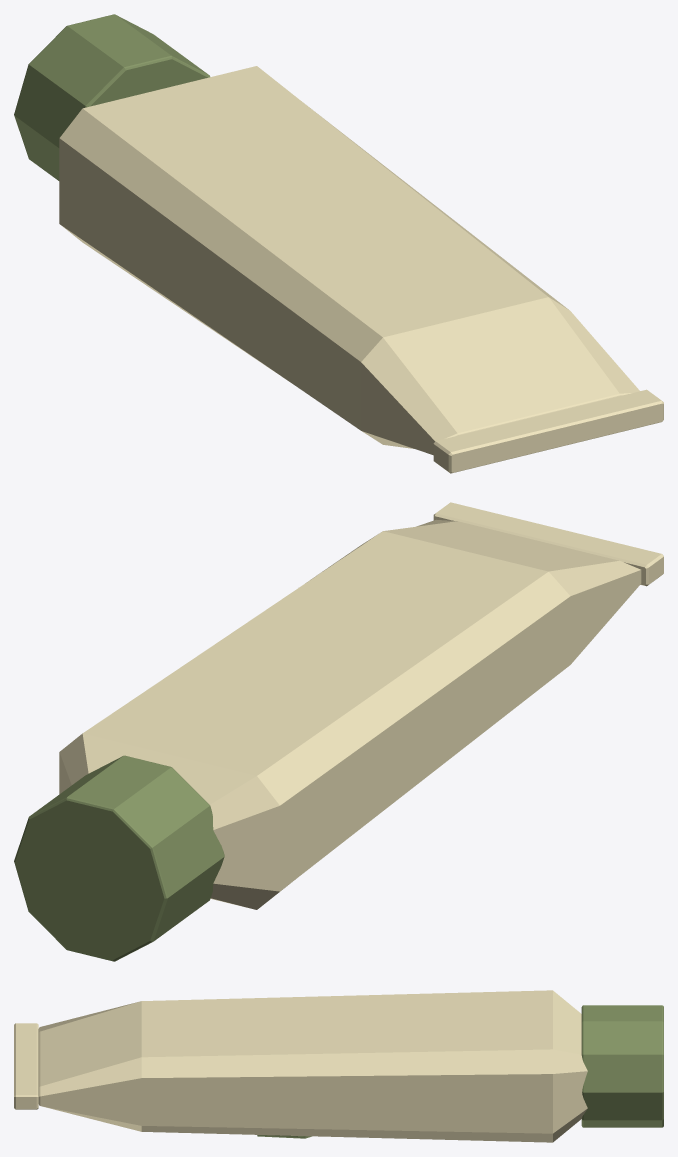
Rendered from toothpaste.glb.
The picture shows the model from 3 angles, top to bottom: view 1: azimuth 30°, elevation 25°; view 2: azimuth 150°, elevation 25°; view 3: azimuth 270°, elevation 25°; orthographic projection. The views are drawn at different scales.
Parts seen in each view (by area): view 1: toothpaste; view 2: toothpaste; view 3: toothpaste.
Boxes of the visible parts, x1=… form: toothpaste: x1=14, y1=14, x2=663, y2=473; toothpaste: x1=14, y1=502, x2=663, y2=961; toothpaste: x1=14, y1=990, x2=663, y2=1142.
Bounding box in the file's own units: 0.043 × 0.0285 × 0.158.
